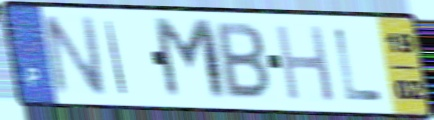B: (213, 19, 273, 103)
H: (272, 21, 338, 104)
I: (102, 18, 130, 98)
L: (331, 25, 386, 104)
M: (149, 14, 232, 105)
N: (37, 13, 110, 100)
